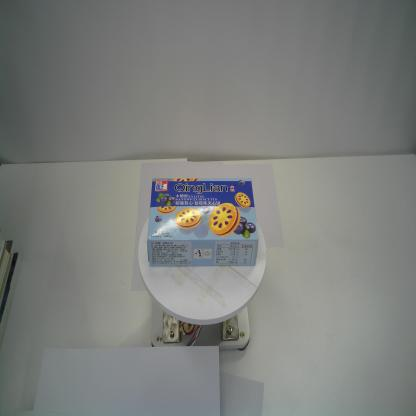Dessert: (146, 177, 259, 267)
